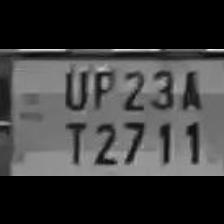1: (176, 114, 204, 164), (150, 114, 176, 164)
2: (115, 62, 147, 112), (86, 115, 118, 165)
3: (146, 62, 174, 110)
7: (116, 114, 148, 164)
A: (176, 63, 204, 113)
P: (88, 64, 116, 112)
T: (58, 116, 88, 164)
U: (58, 62, 90, 110)
